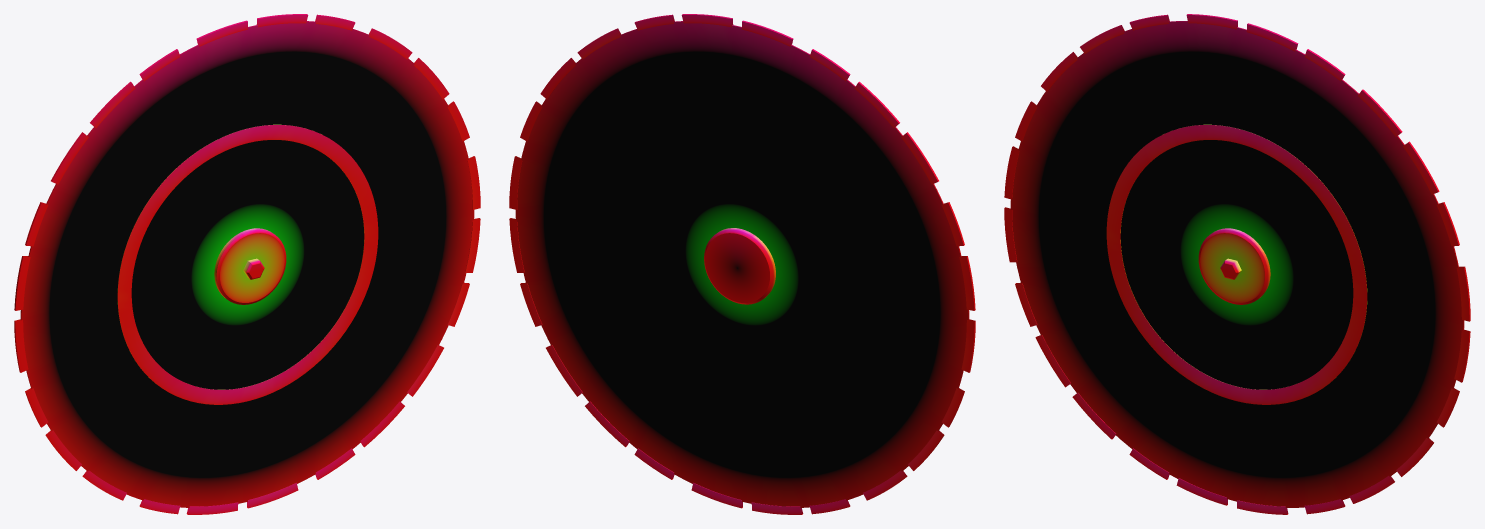
Rendered from prop_saw_blade_large.fbx.
3 views of the same model, side by side, from view 1: azimuth 30°, elevation 25°; view 2: azimuth 150°, elevation 25°; view 3: azimuth 330°, elevation 25° (orthographic).
Parts seen in each view (by area): view 1: prop_saw_blade_large; view 2: prop_saw_blade_large; view 3: prop_saw_blade_large.
Boxes of the visible parts, <box> form: prop_saw_blade_large: <box>14,14,480,514</box>; prop_saw_blade_large: <box>509,14,975,514</box>; prop_saw_blade_large: <box>1004,14,1470,514</box>.
Bounding box in the file's own units: 0.6 × 0.6 × 0.031.
